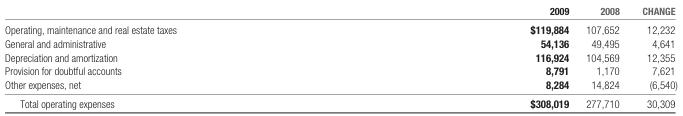table: (4, 4, 676, 109)
table column: (4, 4, 352, 109), (352, 4, 576, 109), (576, 4, 630, 109), (630, 4, 676, 109)
table column header: (4, 4, 676, 19)
table row: (4, 19, 676, 35), (4, 77, 676, 93), (4, 93, 676, 109), (4, 4, 676, 19), (4, 35, 676, 49), (4, 49, 676, 63), (4, 63, 676, 77)
